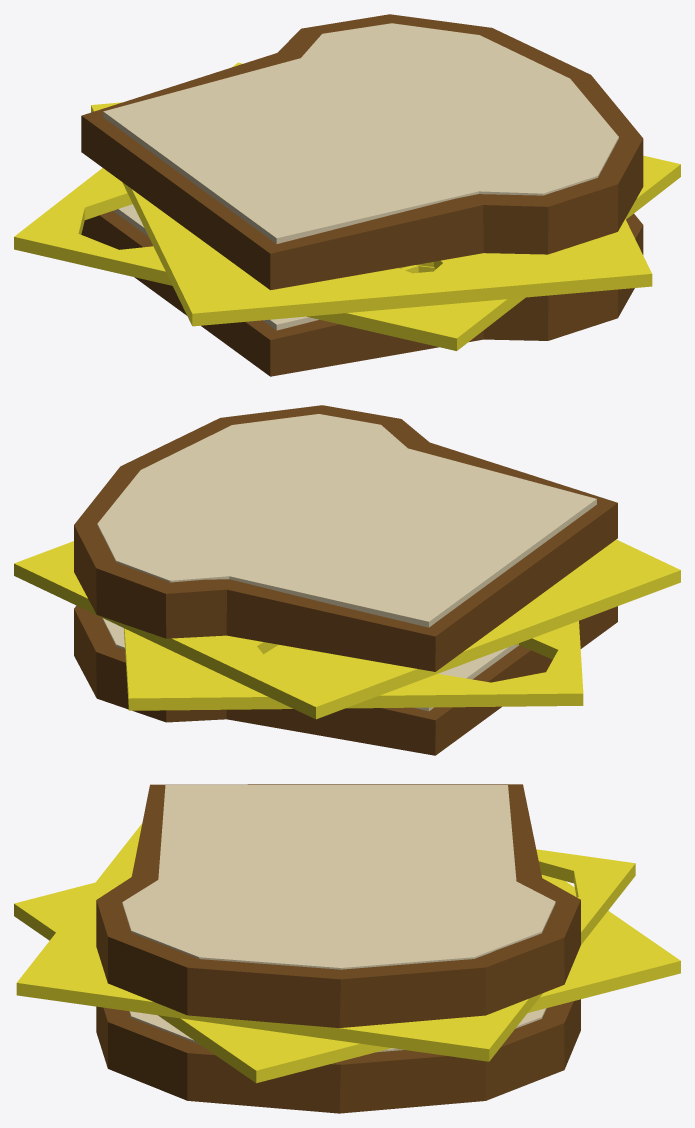
The model's file is Sandwich.fbx.
3 views of the same model, one above another, from view 1: azimuth 30°, elevation 25°; view 2: azimuth 150°, elevation 25°; view 3: azimuth 270°, elevation 25° (orthographic). The views are drawn at different scales.
Visible parts, largest first — view 1: Sandwich2; view 2: Sandwich2; view 3: Sandwich2.
Part boxes in pixels (x1,y1,x2,y2): Sandwich2: (14,14,680,376); Sandwich2: (14,405,680,755); Sandwich2: (14,784,680,1113).
Size of the model in its own units: 12.47 by 2.87 by 12.68.
